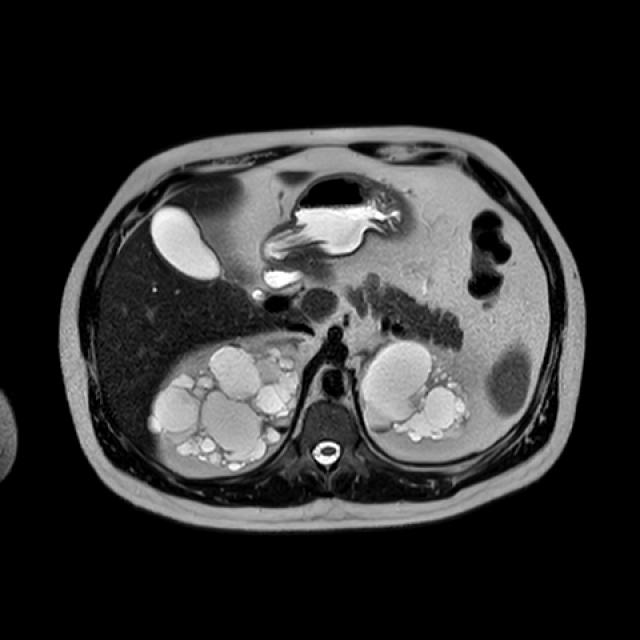sag: (147, 340, 300, 470)
sol: (364, 338, 471, 442)
